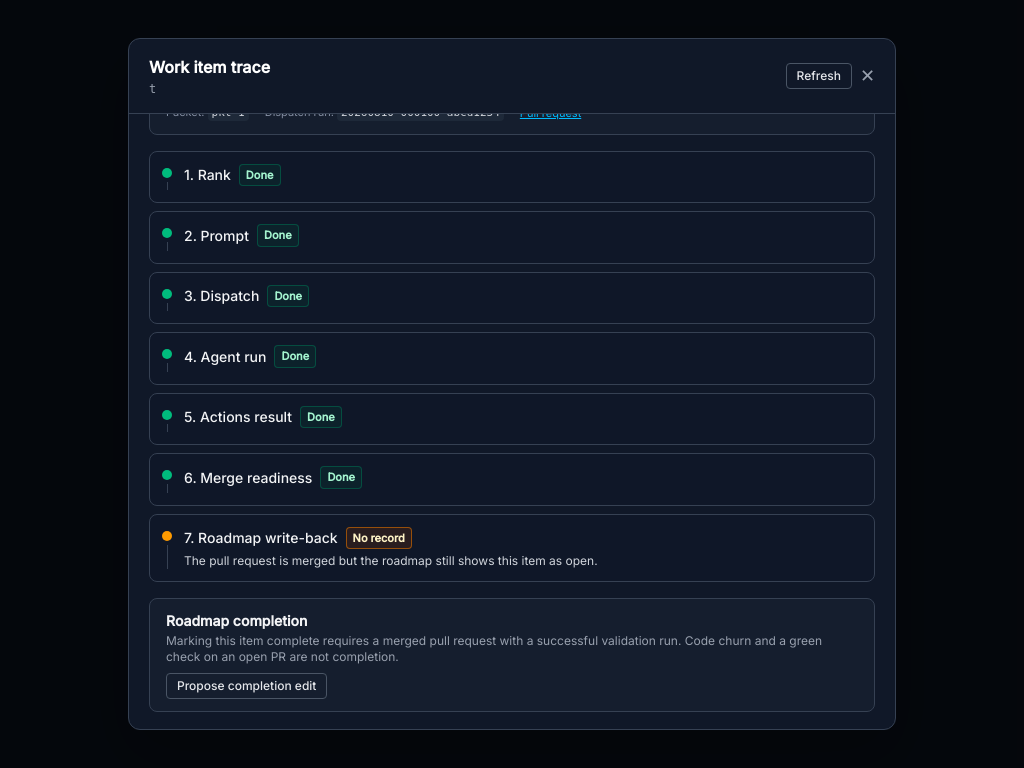
WorkItemTraceModal — roadmap write-back › applies on confirm and re-reads the trace
(page scrolled)
Check: the element with test id "work-item-write-back" is shown, box [149,598,875,712]
Click the button with test id "work-item-write-back-preview": [247, 686] box [166,673,327,699]
(page scrolled)
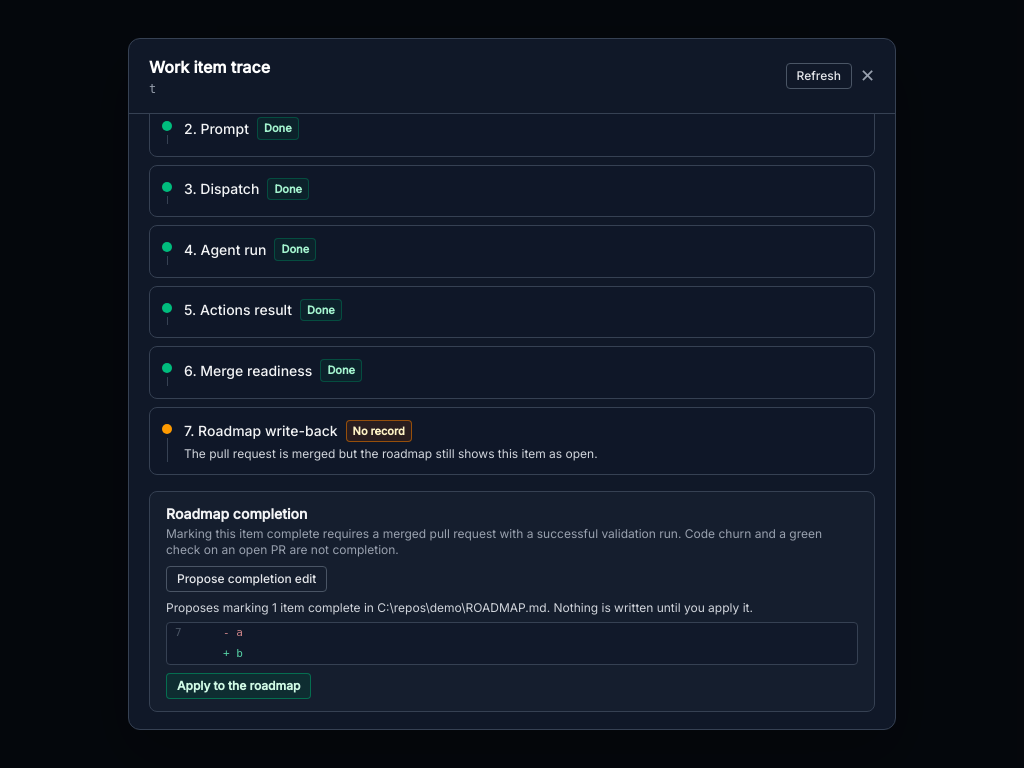
Click the button with test id "work-item-write-back-apply": [239, 686] box [166,673,311,699]
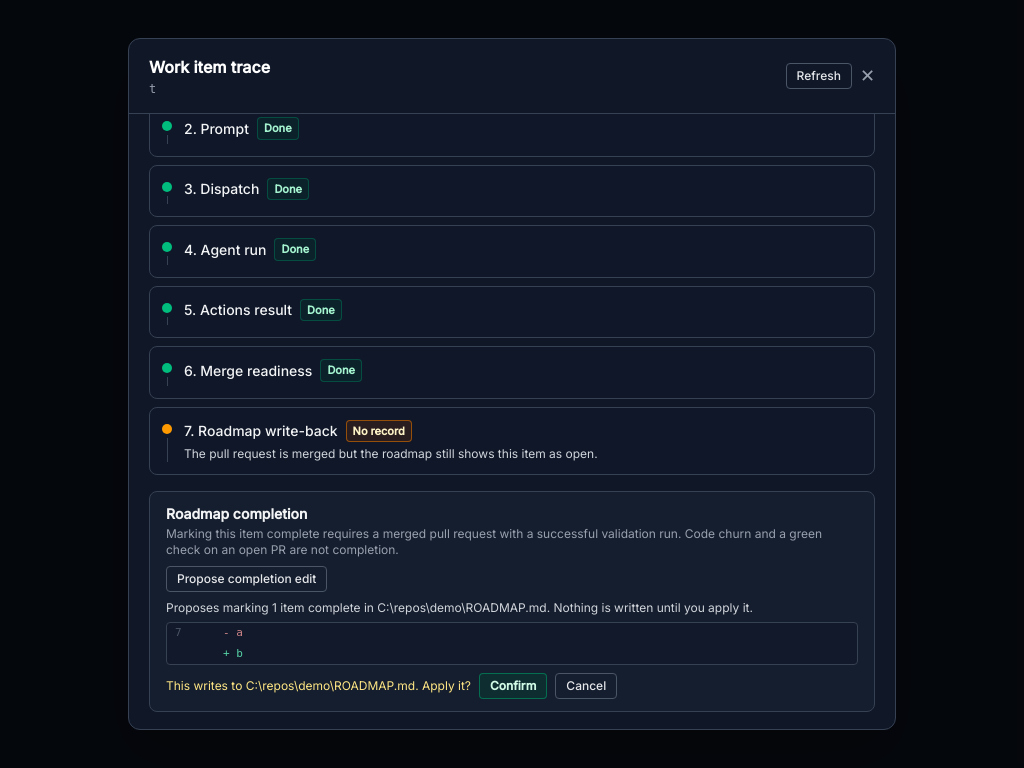
Click the button with test id "work-item-write-back-confirm": [513, 686] box [479,673,547,699]
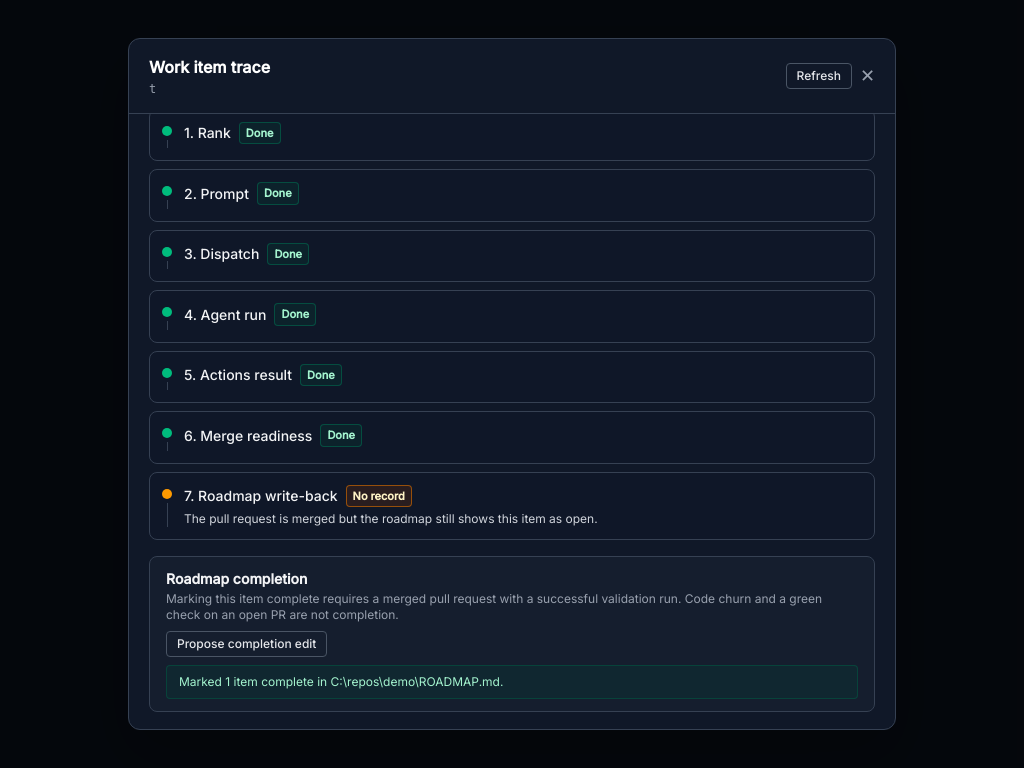
Check: the message with test id "work-item-write-back-applied" shows "Marked 1 item complete", box [179,674,503,689]
